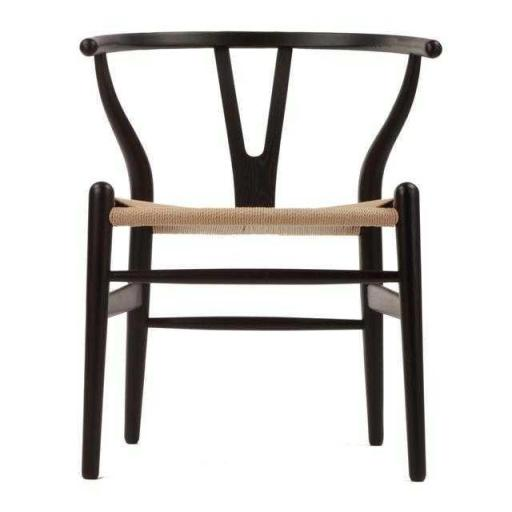chair: (63, 24, 453, 490)
